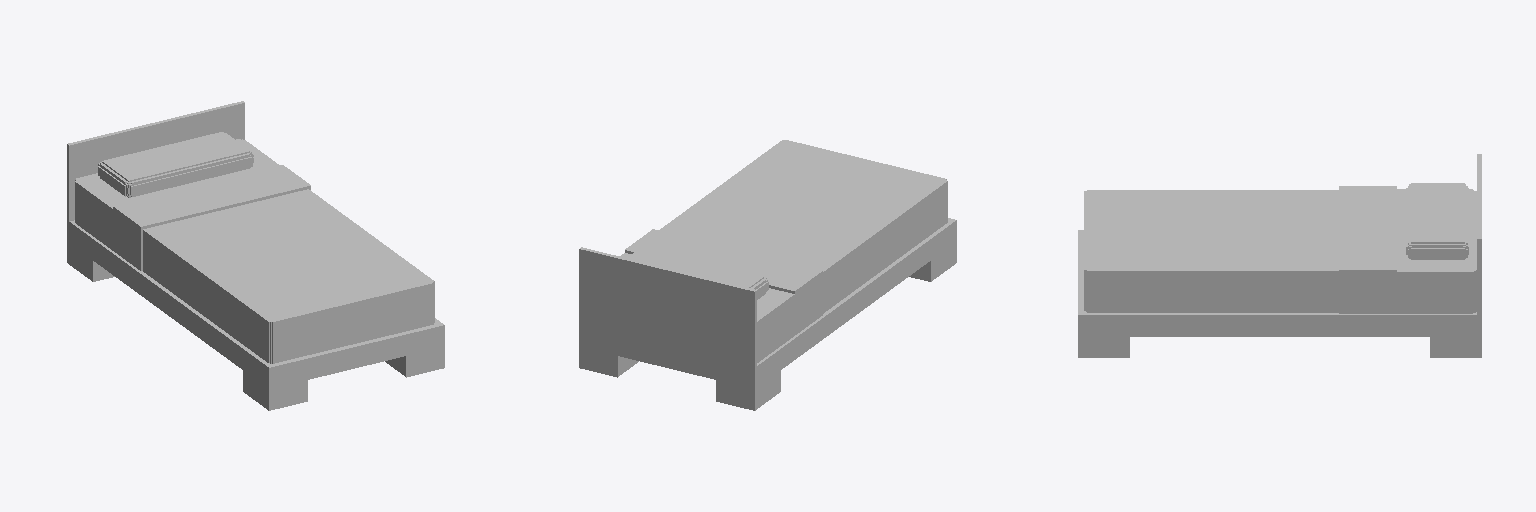
File: cama.obj
3 views of the same model, side by side, from view 1: azimuth 30°, elevation 25°; view 2: azimuth 150°, elevation 25°; view 3: azimuth 270°, elevation 25° (orthographic).
Visible parts, largest first — view 1: object 1; view 2: object 1; view 3: object 1.
Boxes of the visible parts, box(x1,y1,x2,y2) form: object 1: box(67, 101, 444, 410); object 1: box(579, 140, 956, 410); object 1: box(1078, 154, 1481, 357).
Bounding box in the file's own units: 12.8 × 8.3 × 25.5.